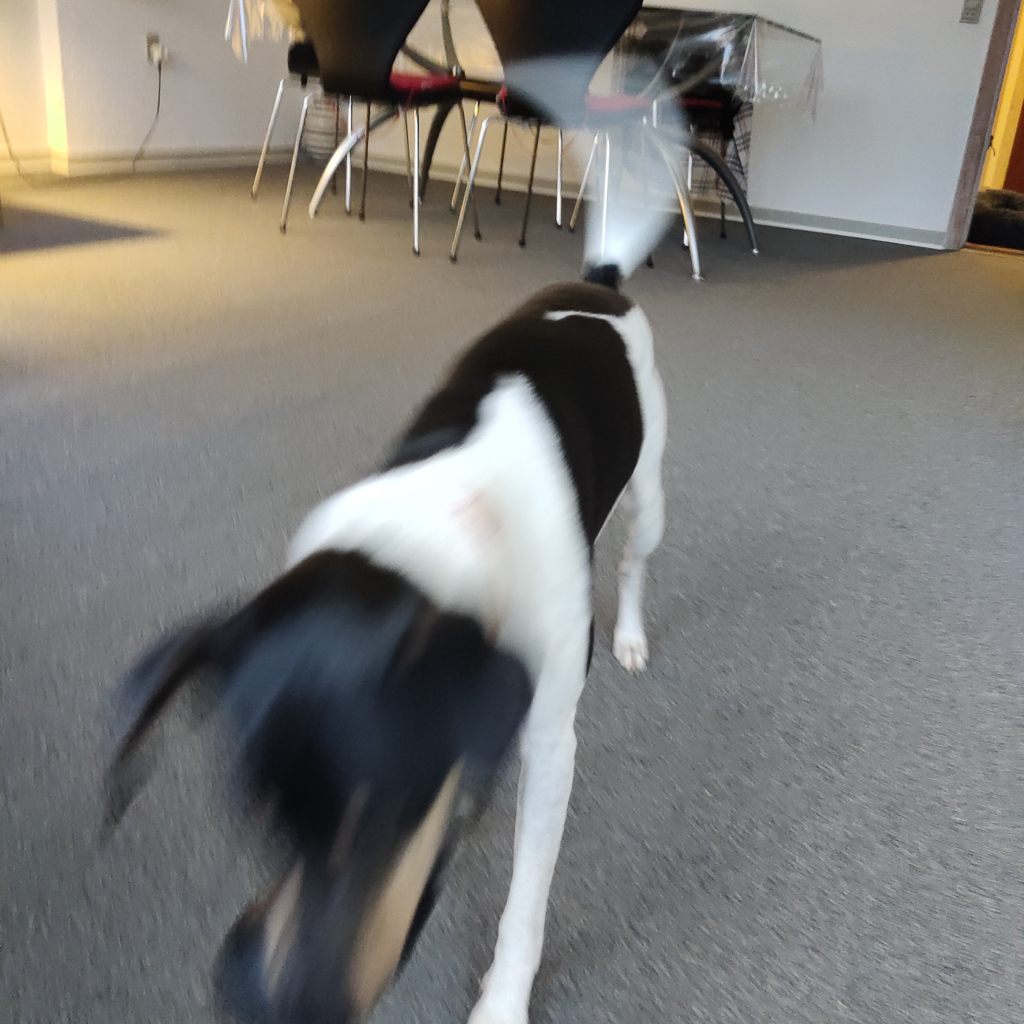Dog: (81, 40, 719, 1024)
